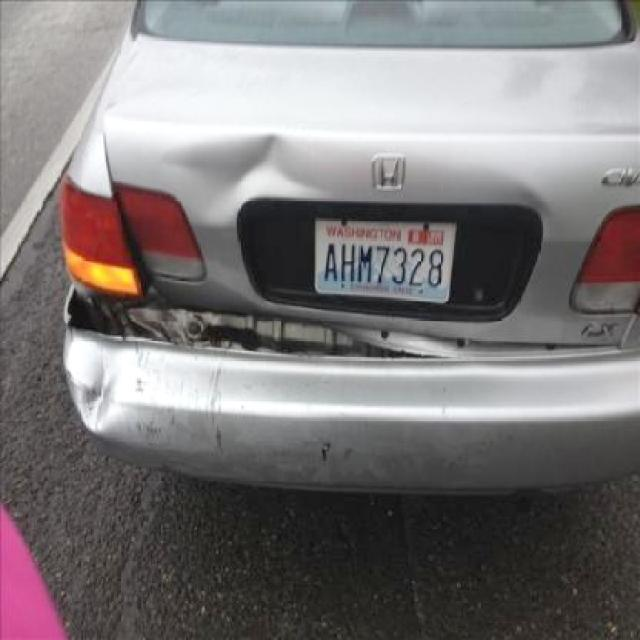minor: (66, 286, 468, 358), (158, 135, 325, 232)
